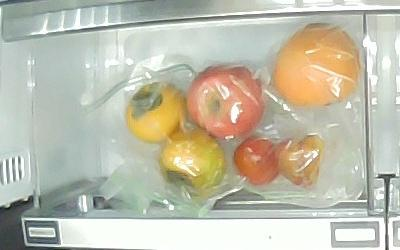apple_vinyl: (186, 62, 265, 140)
grapefruit_vinyl: (271, 23, 359, 109)
persimmon_vinyl: (160, 128, 226, 196), (126, 82, 188, 144)
prune_vinyl: (276, 134, 327, 189), (233, 137, 280, 187)
